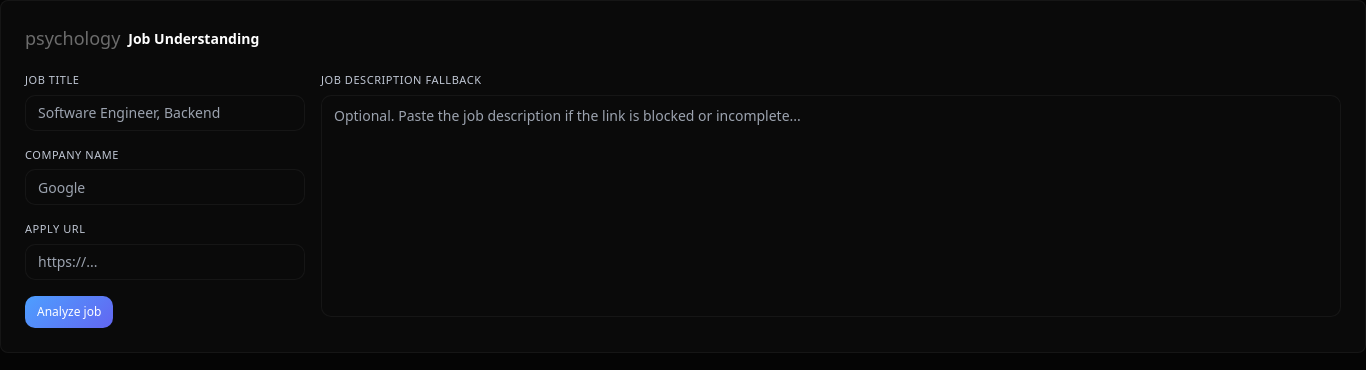
JobAnalysisPanel › shows the API error message when link analysis fails
Type "https://jobs.example.com/blocked" into the field labelled "Apply URL" at (165, 262), box x1=25 y1=244 x2=305 y2=280
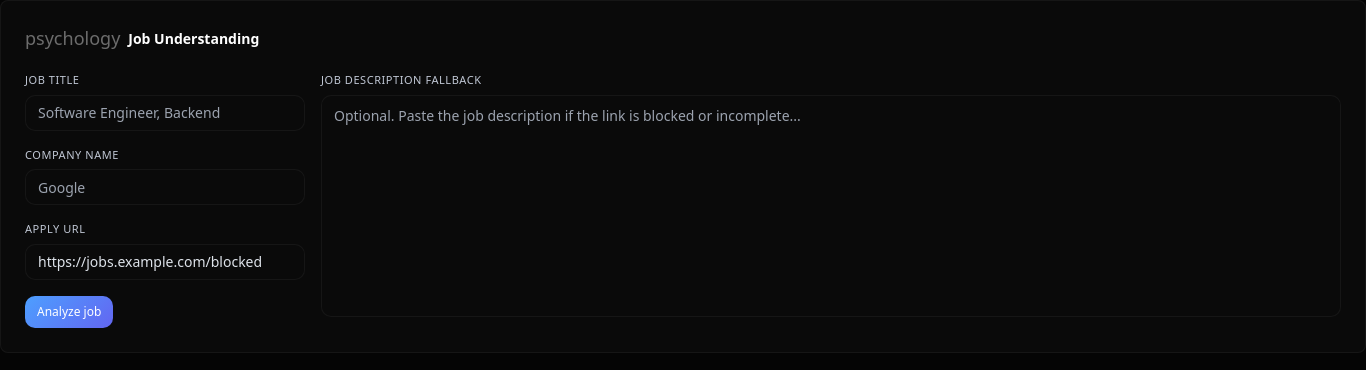
Click the button "Analyze job" at (69, 312), box x1=25 y1=296 x2=113 y2=328
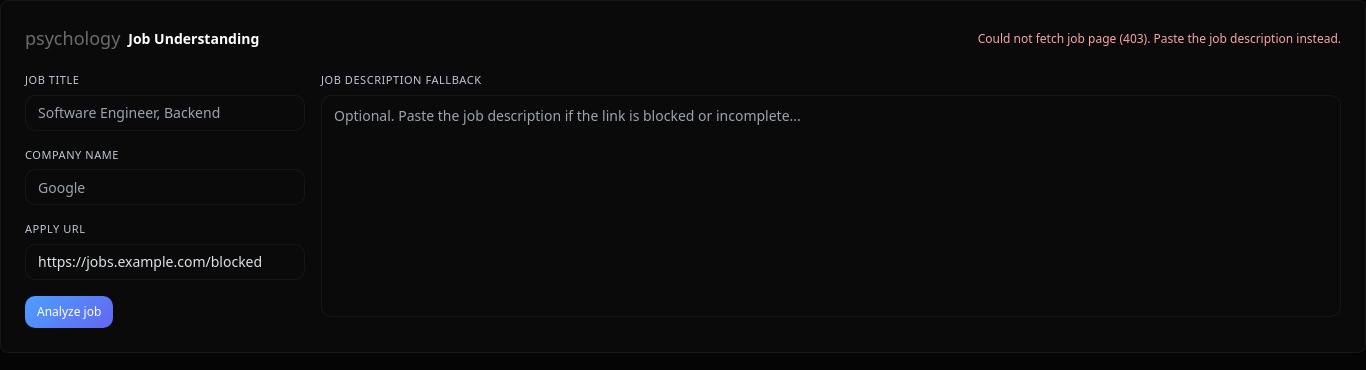
Result: the text "Could not fetch job page (403). Paste the job description instead." is shown at x1=978 y1=30 x2=1341 y2=46
